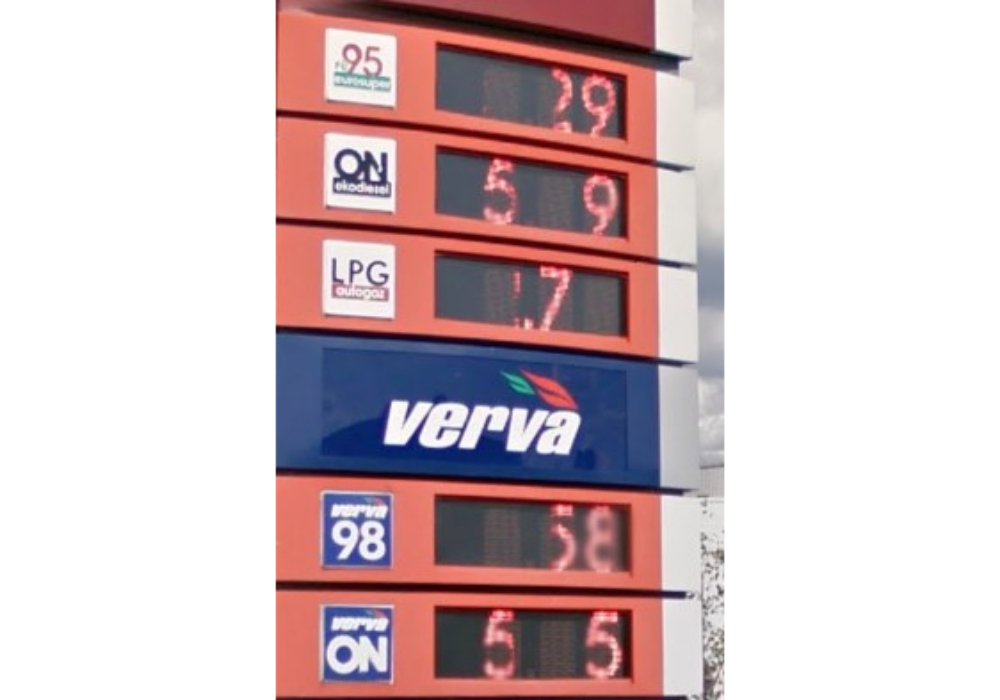LPG: (319, 234, 396, 318)
ON: (318, 597, 396, 683), (322, 131, 395, 215)
PB95: (319, 28, 396, 109)
PB98: (319, 489, 393, 567)
